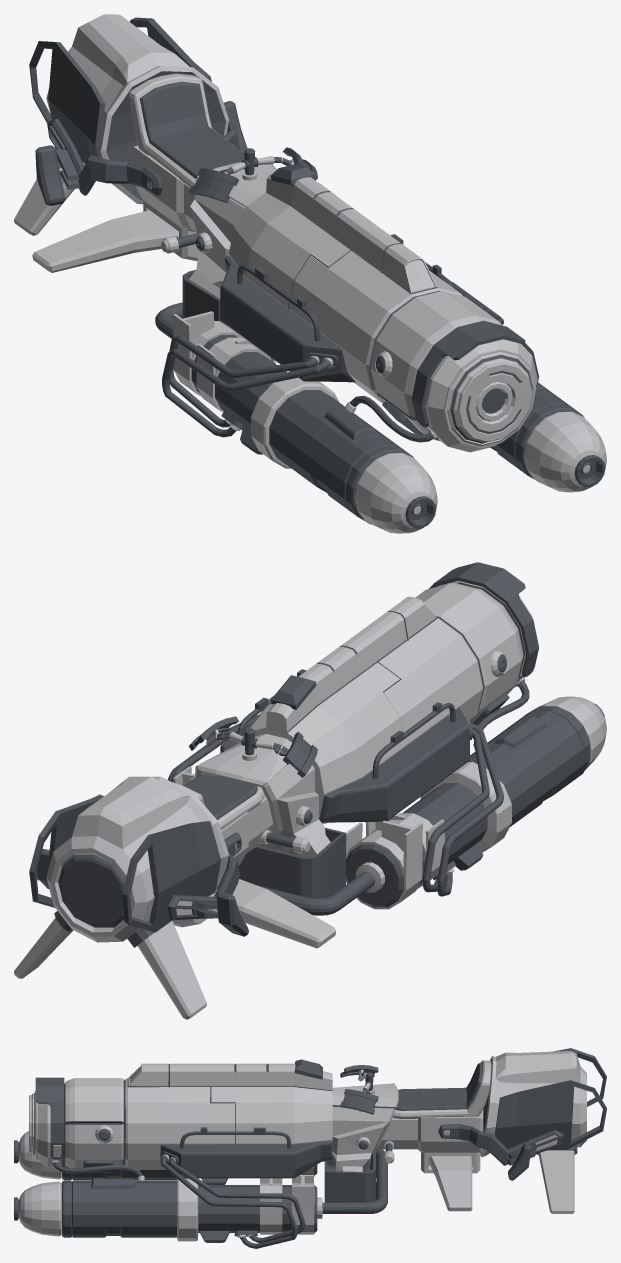
The model's file is Personal_Vehicle_03_Neutral.fbx.
3 renders of one model, top to bottom at view 1: azimuth 30°, elevation 25°; view 2: azimuth 150°, elevation 25°; view 3: azimuth 270°, elevation 25°, orthographic. The views are drawn at different scales.
Visible parts, largest first — view 1: Personal_Vehicle_03_Neutral; view 2: Personal_Vehicle_03_Neutral; view 3: Personal_Vehicle_03_Neutral.
Boxes of the visible parts, <box> form: Personal_Vehicle_03_Neutral: <box>14,14,606,533</box>; Personal_Vehicle_03_Neutral: <box>14,562,606,1019</box>; Personal_Vehicle_03_Neutral: <box>14,1048,606,1248</box>.
Size of the model in its own units: 181 by 135 by 465.
2 materials, 2 textured.
